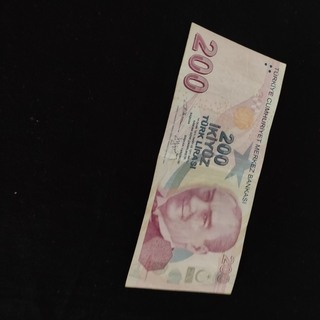200TLFront: (124, 21, 287, 295)
